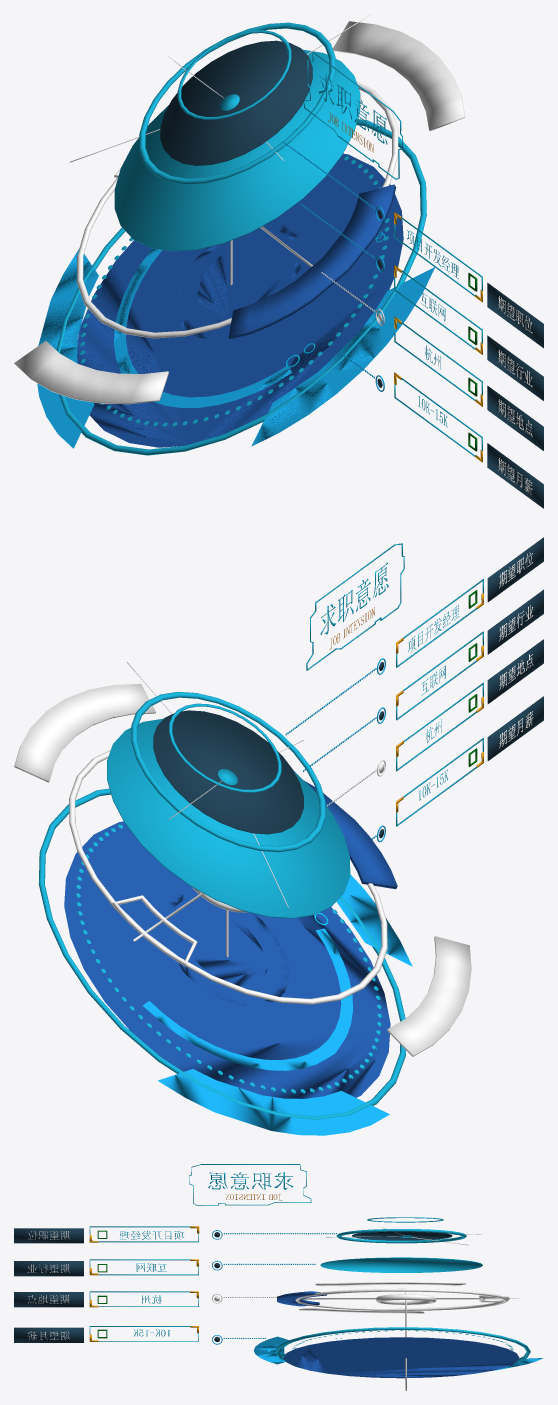
Rendered from job_intention.obj.
The picture shows the model from 3 angles, top to bottom: view 1: azimuth 30°, elevation 25°; view 2: azimuth 150°, elevation 25°; view 3: azimuth 270°, elevation 25°; orthographic projection. The views are drawn at different scales.
Visible parts, largest first — view 1: Circle165, Circle158, Circle156, Line007, Line009, Line001, Line002, Circle164, Line008, Circle160, Circle157, Line010 (+8 smaller); view 2: Circle165, Circle158, Circle156, Line008, Line001, Line002, Circle164, Circle160, Line010, Circle157, Circle159, Donut001 (+9 smaller); view 3: Circle165, Circle158, Circle159, Rectangle143, Rectangle144, Rectangle142, Rectangle145, Circle160, Circle157, Circle156, Line001, Line009 (+5 smaller).
Part boxes in pixels (x1,y1,x2,y2): Circle165: (77, 153, 403, 447); Circle158: (114, 49, 360, 251); Circle156: (160, 40, 312, 165); Line007: (228, 184, 395, 340); Line009: (251, 267, 434, 446); Line001: (332, 21, 465, 131); Line002: (14, 341, 168, 404); Circle164: (197, 239, 285, 320); Line008: (37, 248, 98, 448); Circle160: (57, 119, 426, 455); Circle157: (139, 22, 335, 184); Line010: (114, 248, 291, 407); Circle165: (64, 821, 390, 1098); Circle158: (107, 718, 350, 918); Circle156: (153, 710, 303, 834); Line008: (158, 1069, 389, 1135); Line001: (14, 683, 155, 782); Line002: (387, 936, 471, 1056); Circle164: (181, 908, 266, 986); Circle160: (38, 788, 405, 1119); Line010: (142, 928, 352, 1070); Circle157: (131, 692, 325, 852); Circle159: (69, 750, 387, 1004); Donut001: (159, 889, 289, 1006); Circle165: (283, 1337, 519, 1378); Circle158: (320, 1257, 482, 1272); Circle159: (295, 1288, 507, 1310); Rectangle143: (14, 1261, 83, 1276); Rectangle144: (14, 1292, 83, 1307); Rectangle142: (14, 1228, 83, 1243); Rectangle145: (14, 1327, 83, 1342); Circle160: (275, 1327, 530, 1364); Circle157: (336, 1229, 466, 1243); Circle156: (352, 1231, 452, 1240); Line001: (315, 1281, 466, 1286); Line009: (254, 1336, 292, 1364).
Size of the model in its own units: 1024 by 1043 by 1930.
